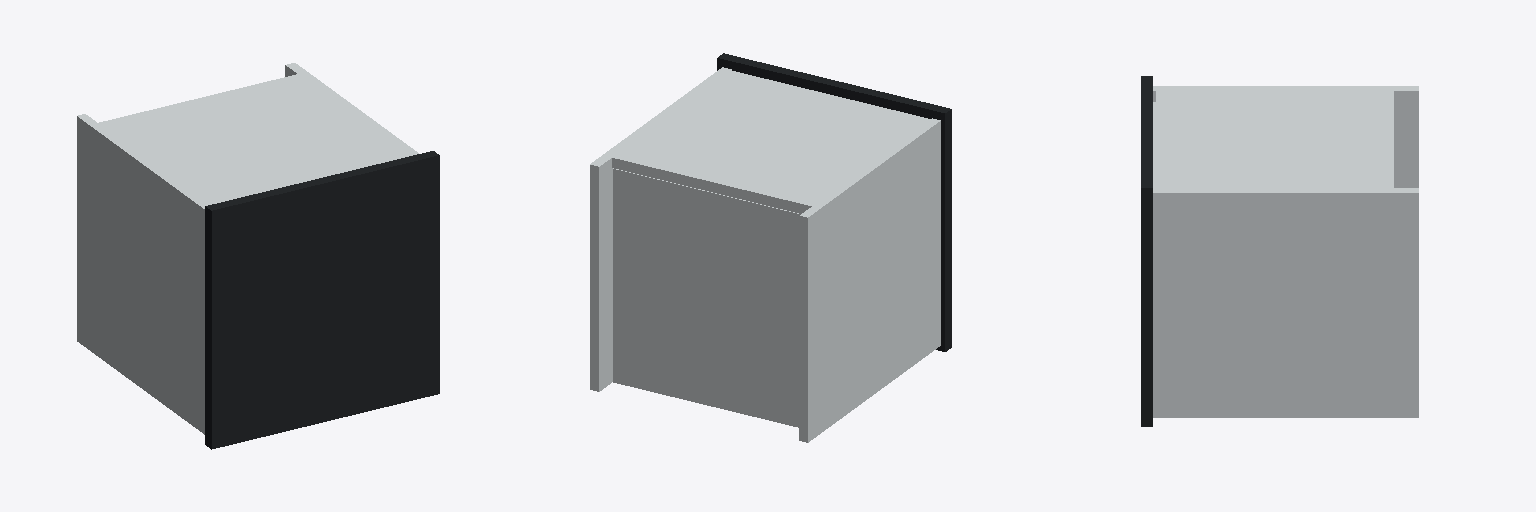
Rendered from tinker.obj.
The picture shows the model from 3 angles: view 1: azimuth 30°, elevation 25°; view 2: azimuth 150°, elevation 25°; view 3: azimuth 270°, elevation 25°; orthographic projection.
Visible parts, largest first — view 1: obj_0; view 2: obj_0; view 3: obj_0.
Boxes of the visible parts, <box> form: obj_0: <box>77,63,439,449</box>; obj_0: <box>590,53,951,442</box>; obj_0: <box>1141,76,1418,426</box>.
Size of the model in its own units: 210 by 218 by 222.